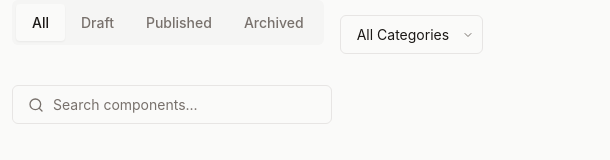
Test: Gate 5: Component List Complete › 3. ComponentFilters › has search clear button when search has value
Type "button" into the field with placeholder "Search components...".
click(172, 104); type("button")  # box [12,85,332,124]
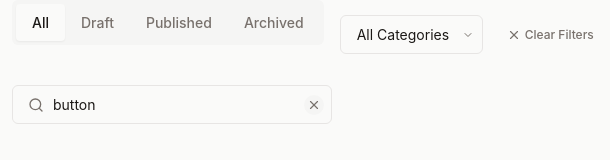
Now the button named "Clear search" is shown, box [304,94,324,114]
